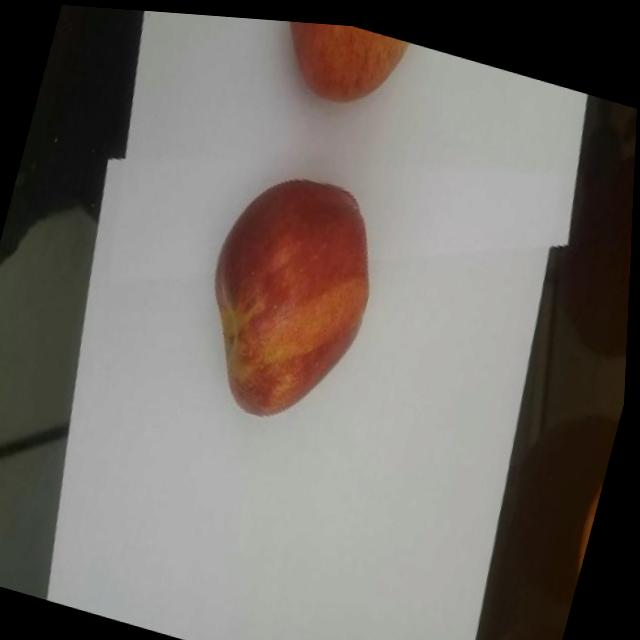Apple: (184, 153, 398, 437), (269, 16, 411, 114), (610, 115, 637, 322)
